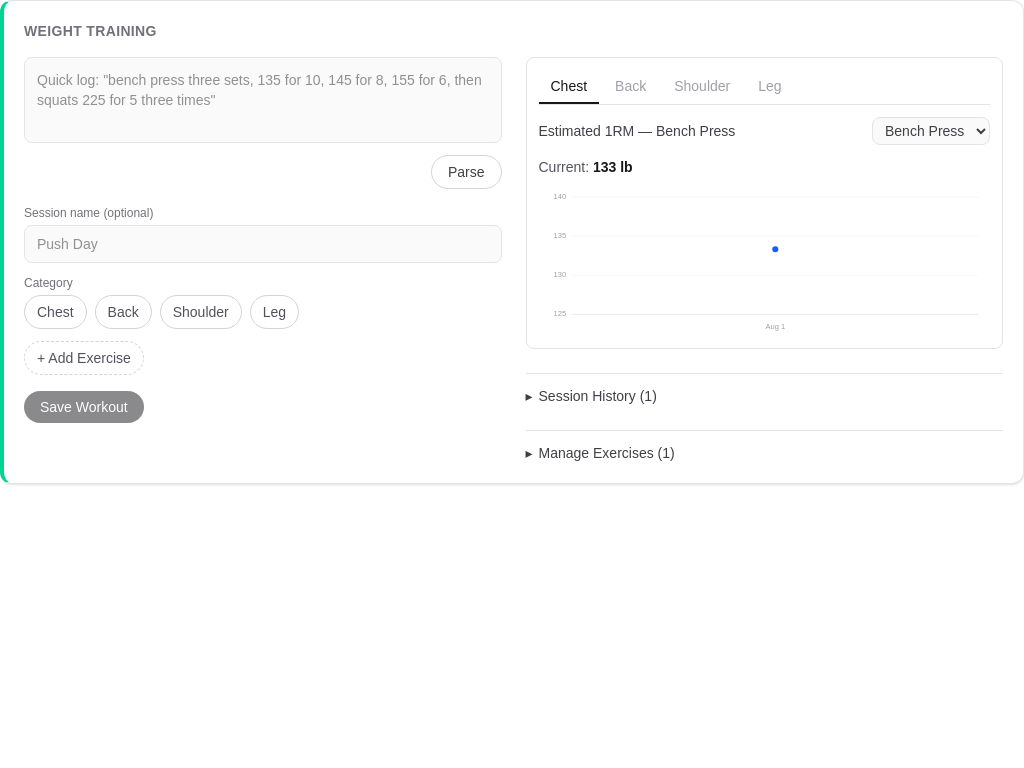
Test: WorkoutCard › deletes a session optimistically once confirmed
Click the button "▸ Session History (1)" at coordinates (591, 396), box [526, 386, 657, 406]
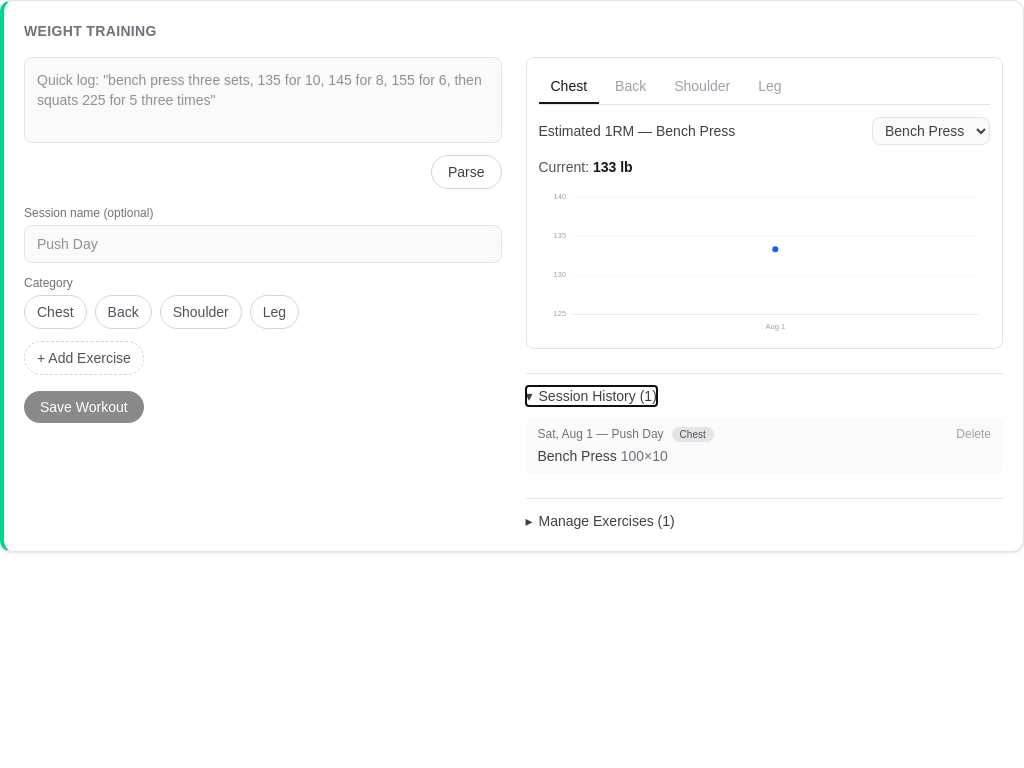
Click the button with aria-label "Delete session" at coordinates (974, 434), box [956, 426, 991, 442]
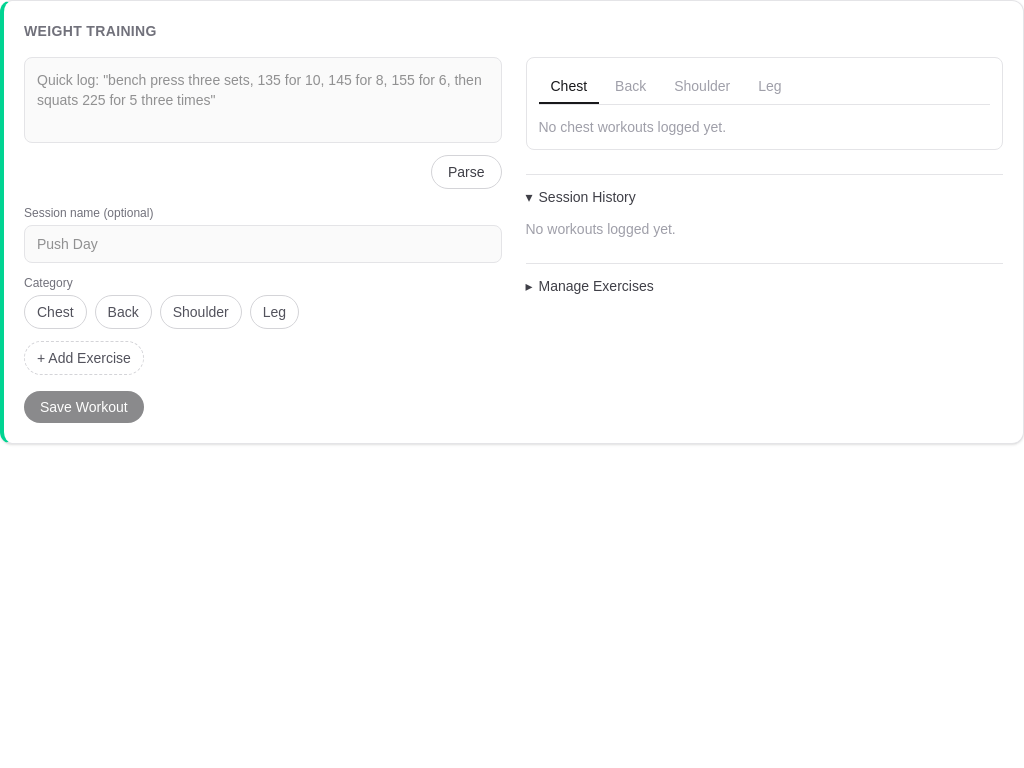
Expected: the text "No workouts logged yet." is shown, [526, 221, 676, 237]
